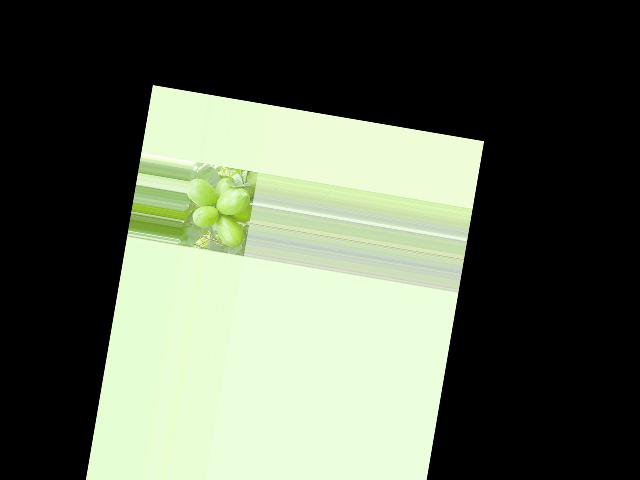lemon: (211, 212, 246, 249)
